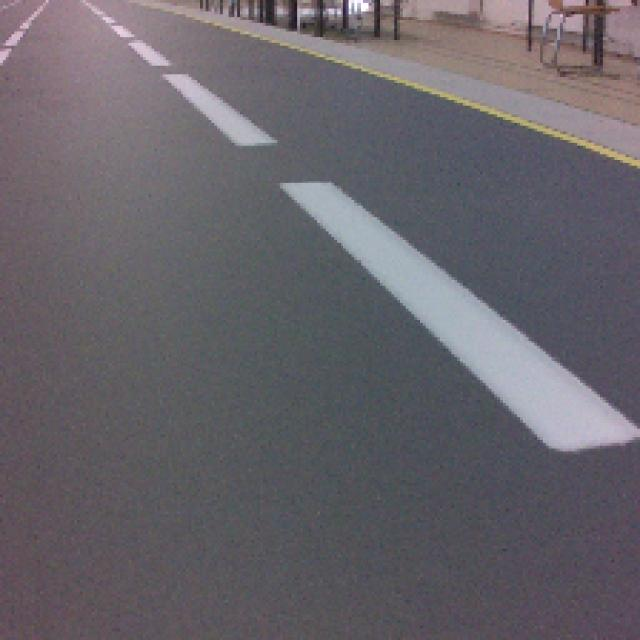Road: (1, 251, 624, 638)
